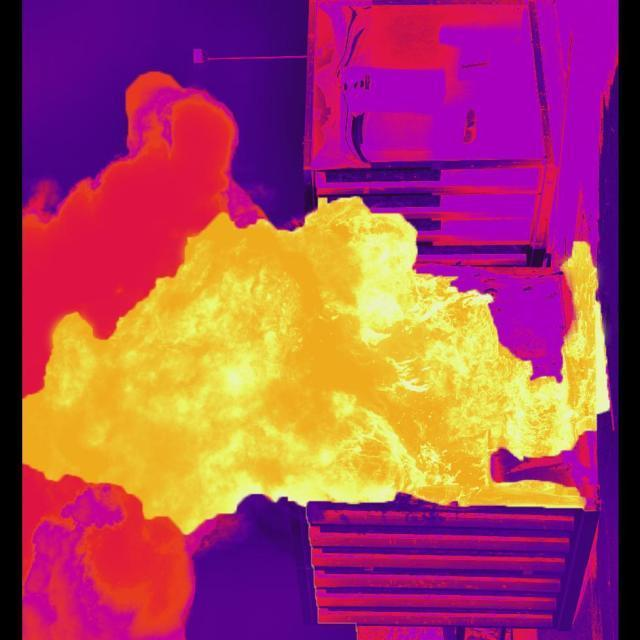fire: (21, 194, 611, 526)
